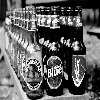beer: (19, 4, 47, 100)
